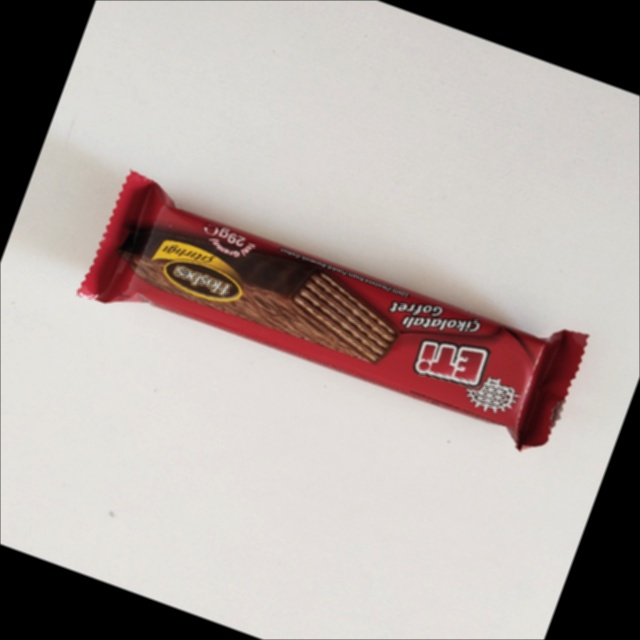eti_hosbes_gofret: (79, 171, 591, 444)
